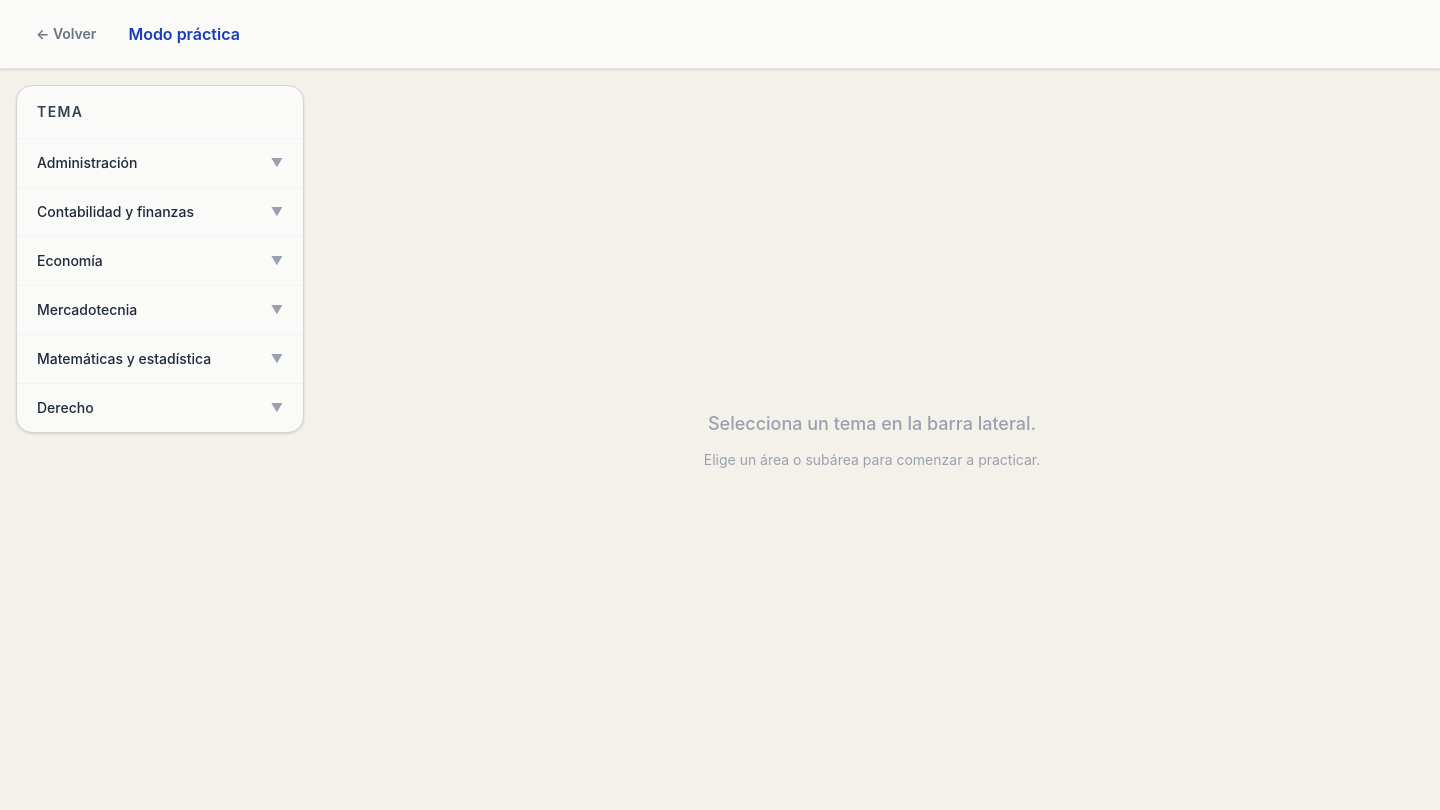
Test: PracticaContainer — sidebar › al volver a hacer clic en el área, la colapsa
The image size is (1440, 810).
What coordinates should you click on to do the following:
click the button "Administración ▼"
I would click on:
 (87, 162)
Its box is [17,139,303,187].
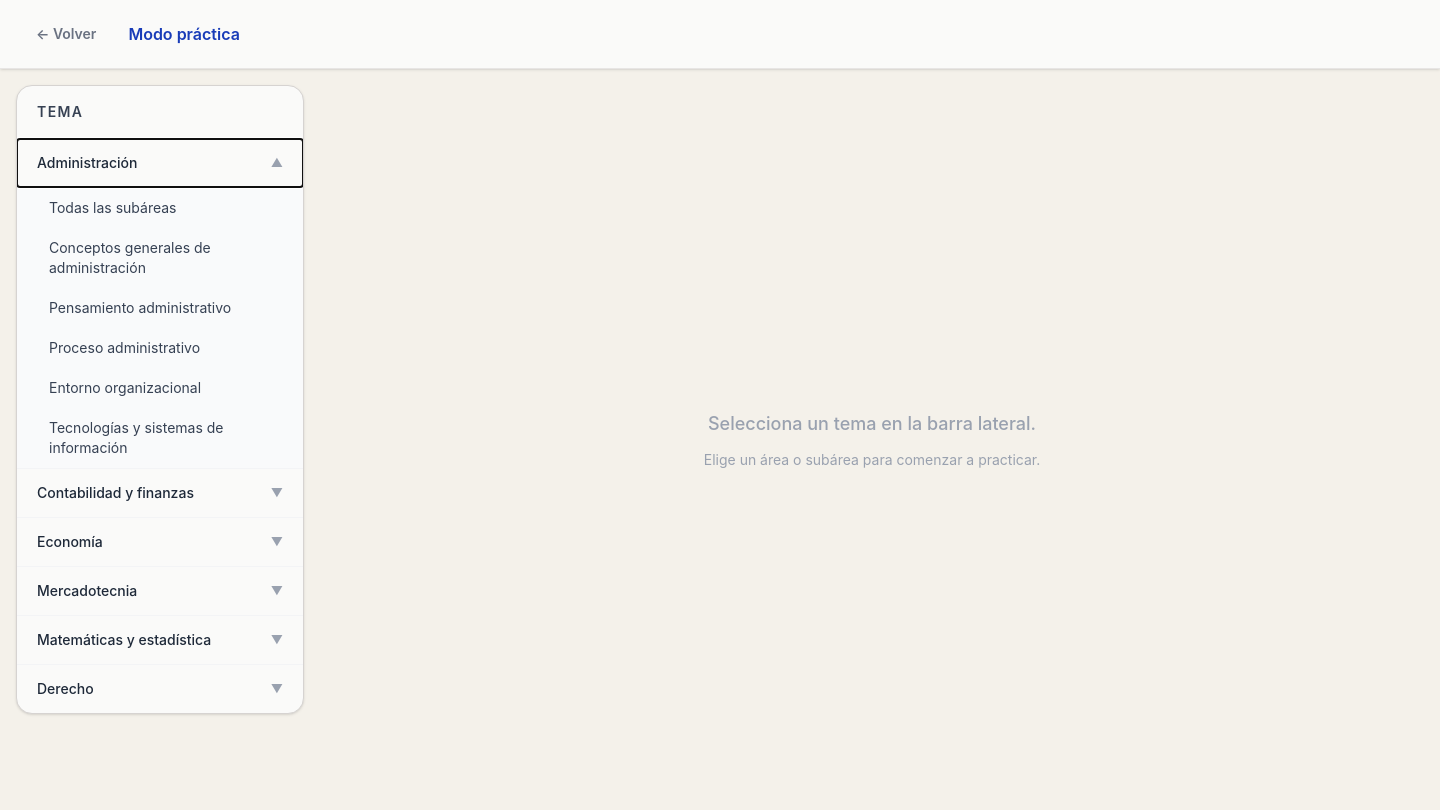
Check: the button "Todas las subáreas" is shown, box [17,188,303,228]
What coordinates should you click on to do the following:
click the button "Administración ▲"
I would click on:
 (87, 162)
Its box is [17,139,303,187].
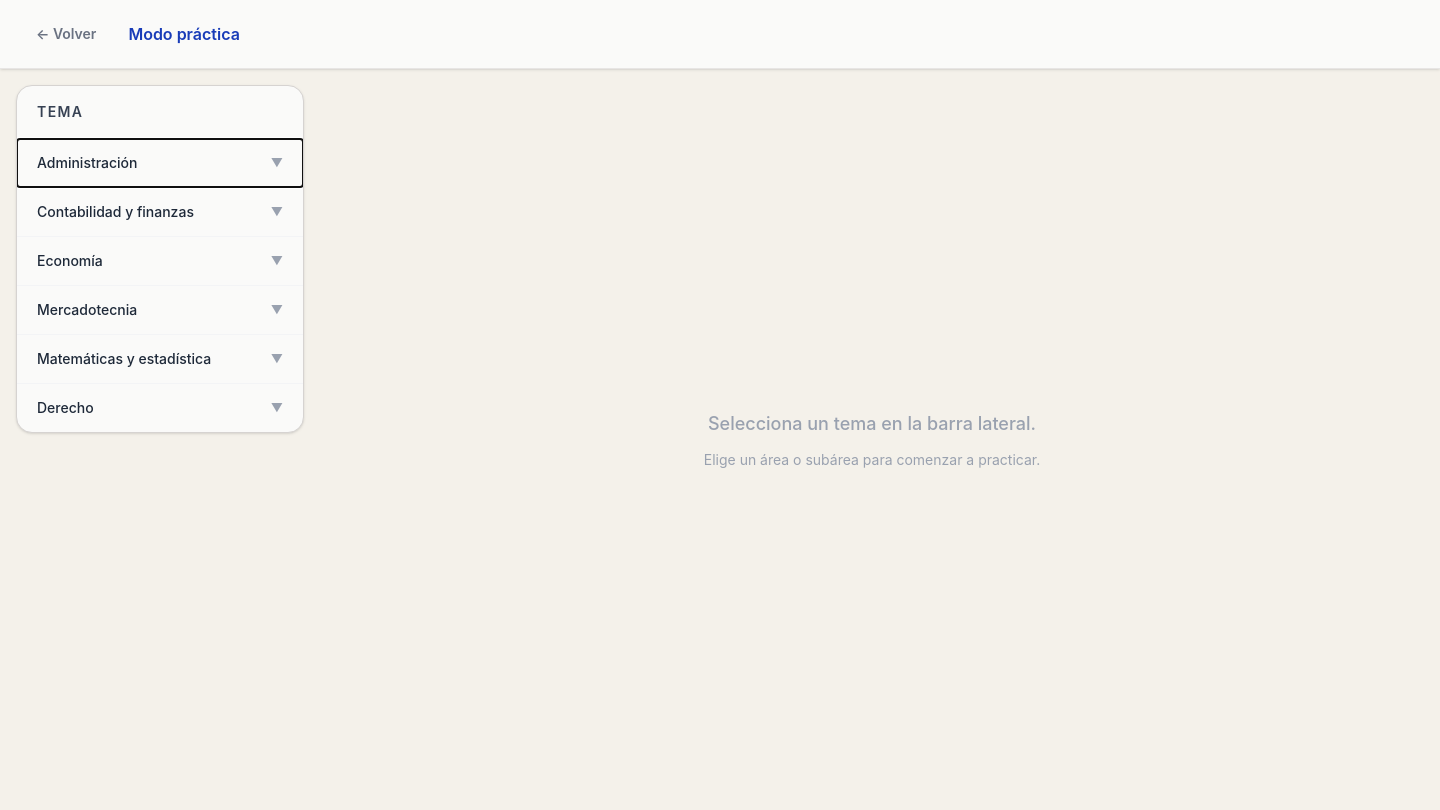
Check: the button "Todas las subáreas" is gone
